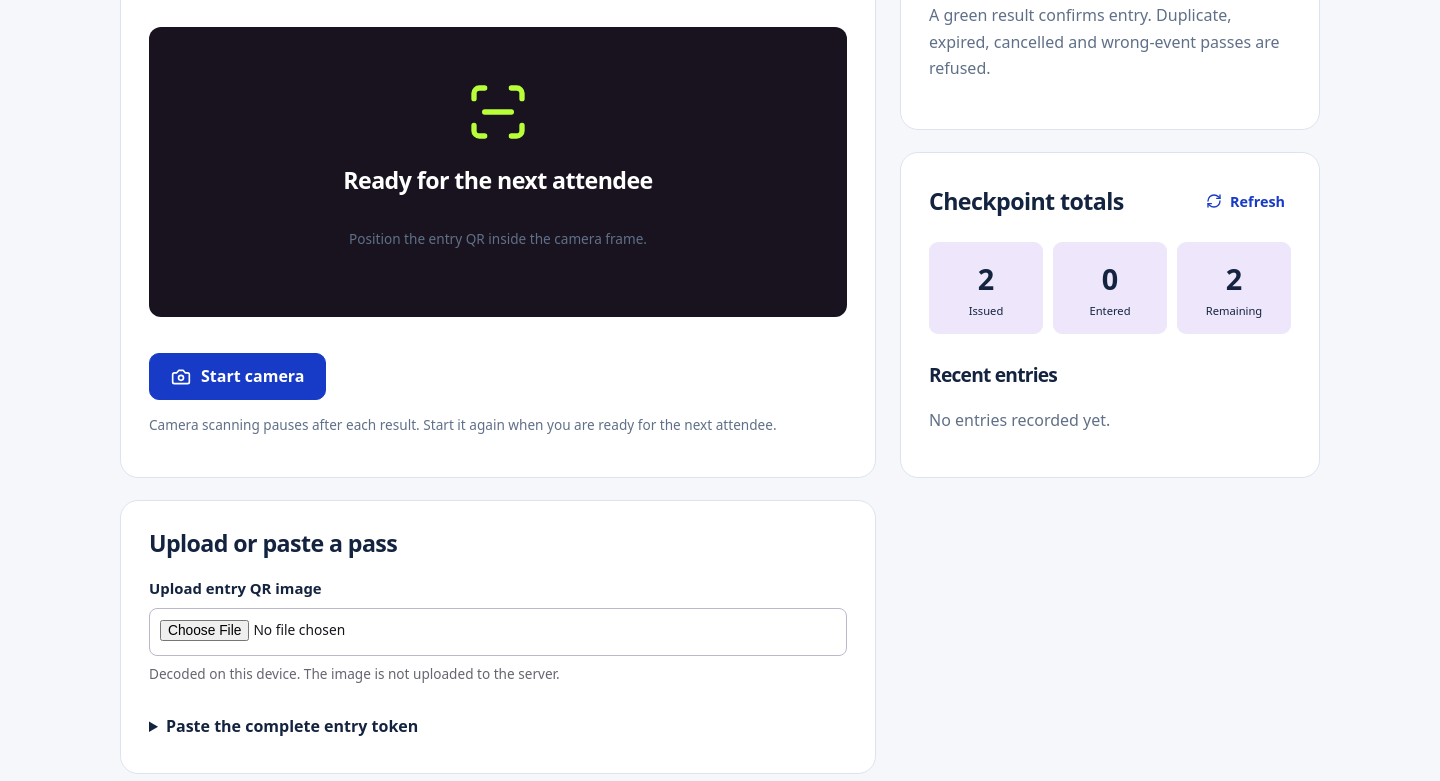
Test: cancelling camera startup waits for startup then stops and clears the reader
(page scrolled)
Click the button "Start camera".
click(238, 376)  # box left=149, top=353, right=326, bottom=400
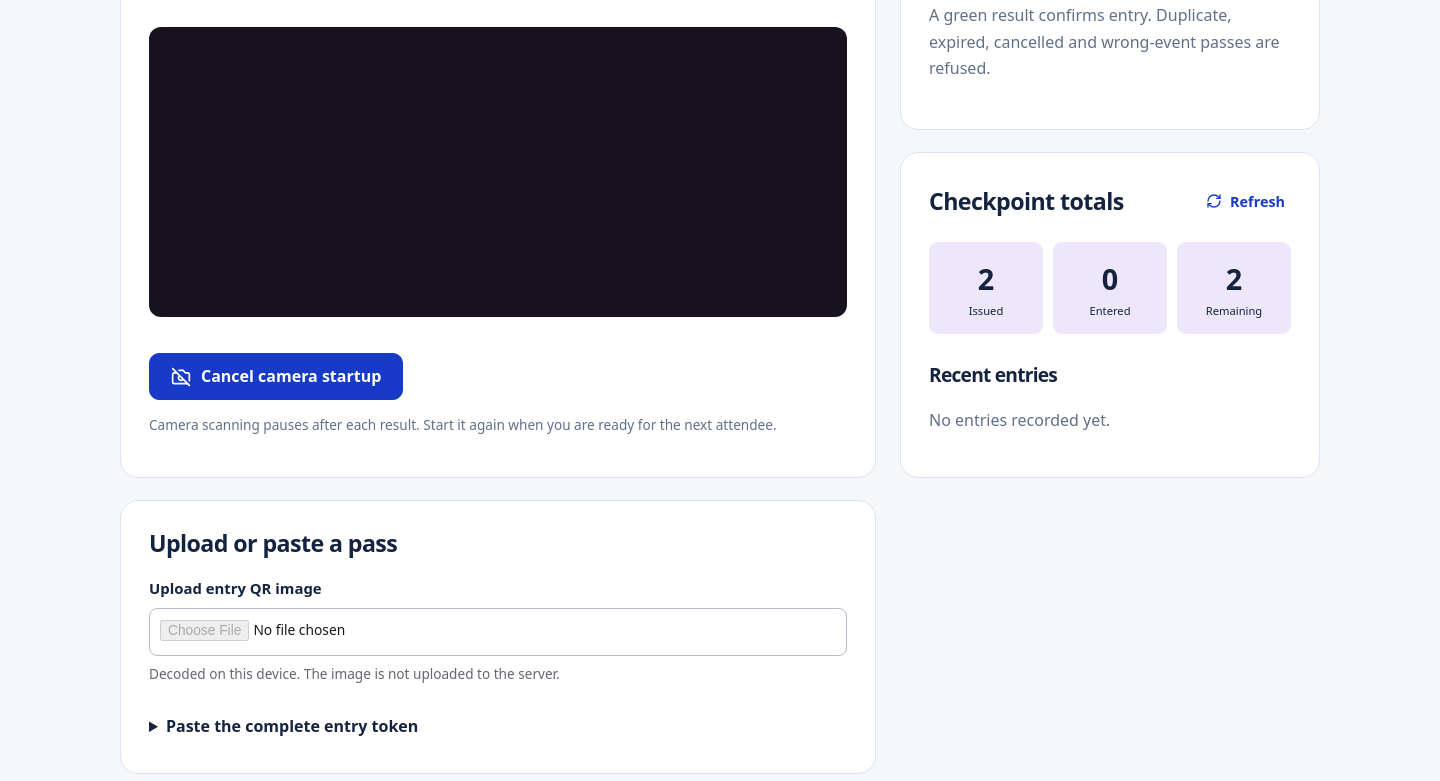
Now the text "Cancel camera startup" is shown
Click the button "Cancel camera startup".
click(276, 376)  # box left=149, top=353, right=403, bottom=400
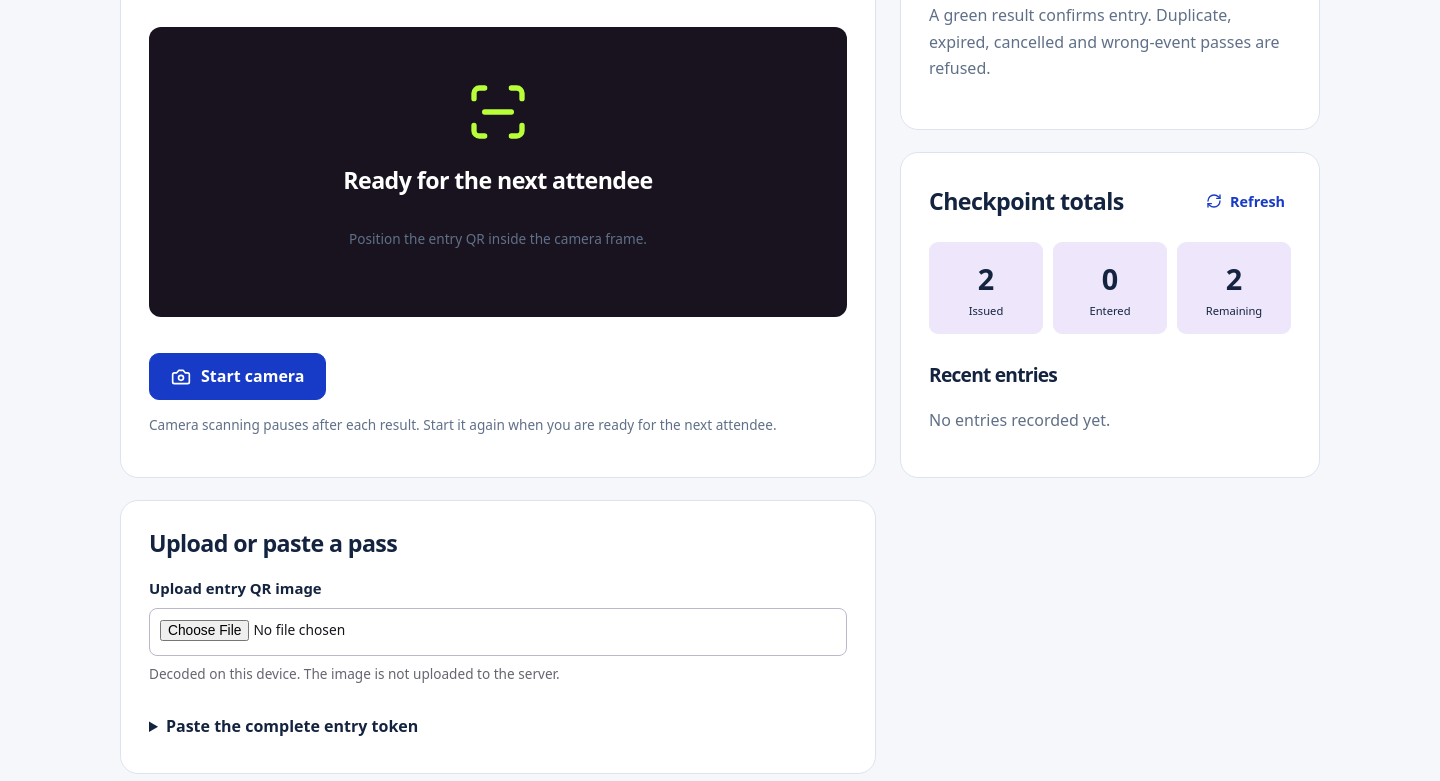
Now the text "Start camera" is shown, box left=149, top=353, right=326, bottom=400
